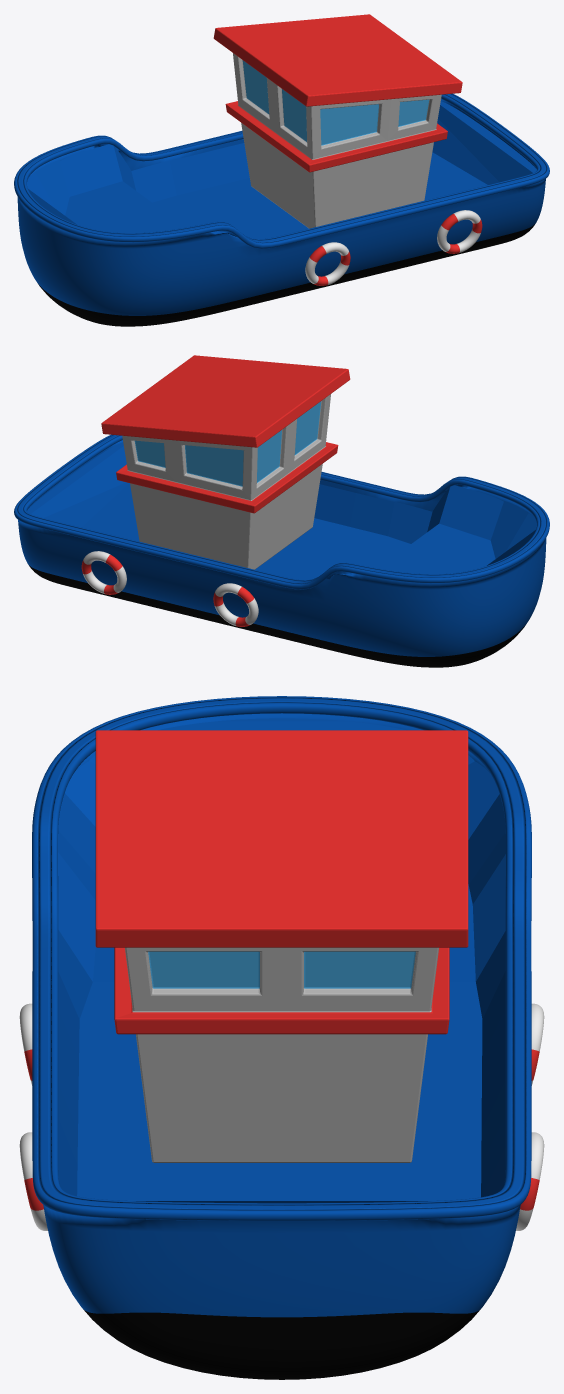
Rendered from Boat.fbx.
The picture shows the model from 3 angles, top to bottom: view 1: azimuth 30°, elevation 25°; view 2: azimuth 150°, elevation 25°; view 3: azimuth 270°, elevation 25°; orthographic projection. The views are drawn at different scales.
Parts seen in each view (by area): view 1: Torus.001; view 2: Torus.001; view 3: Torus.001.
Boxes of the visible parts, x1,y1,x2,y2 form: Torus.001: (14, 14, 549, 326); Torus.001: (14, 355, 549, 667); Torus.001: (19, 696, 544, 1379).
Bounding box in the file's own units: 52.12 × 23.14 × 25.19.
